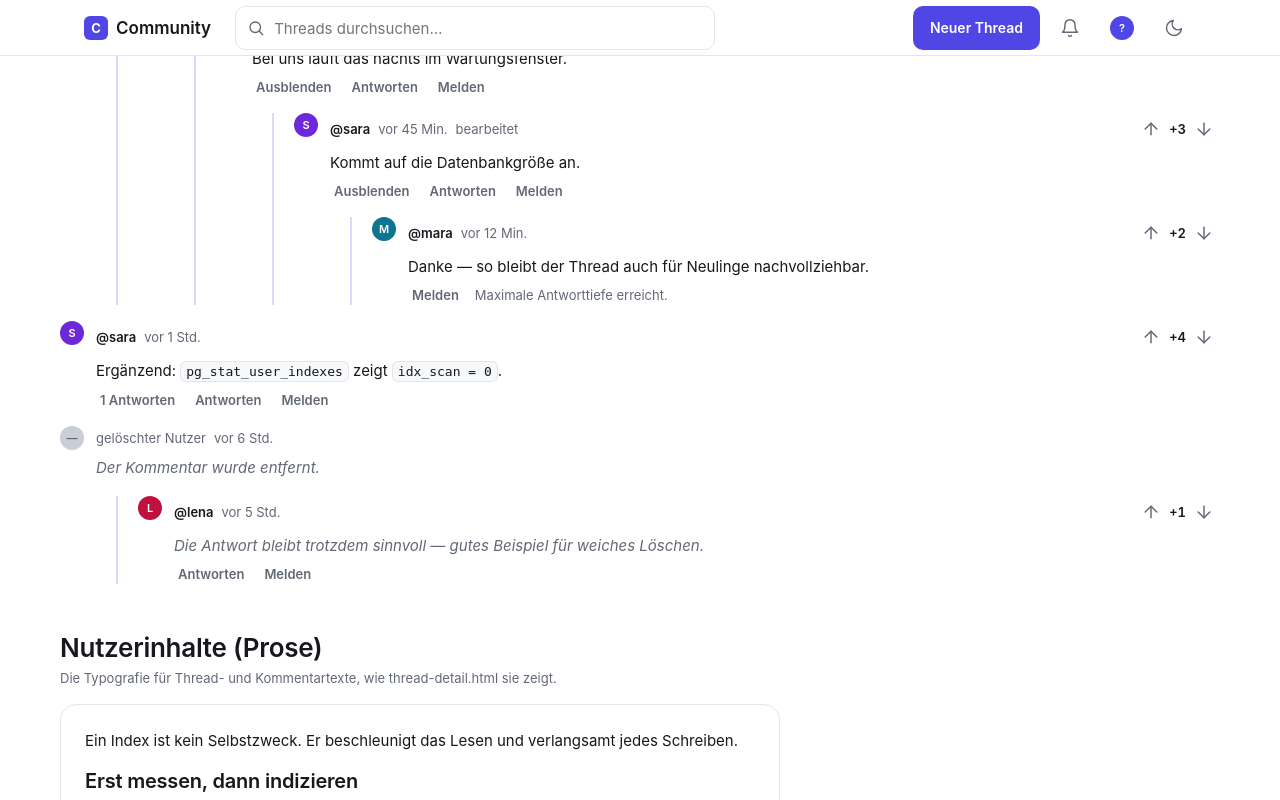
Scenario: forum UI kit gallery › renders the comment tree with depth limit, collapsible replies and a working reply form
(page scrolled)
Expected: the text "Maximale Antworttiefe erreicht." is shown once, [475, 285, 668, 305]
Click the button "1 Antworten". click: (138, 400)
box: [96, 390, 179, 410]
(page scrolled)
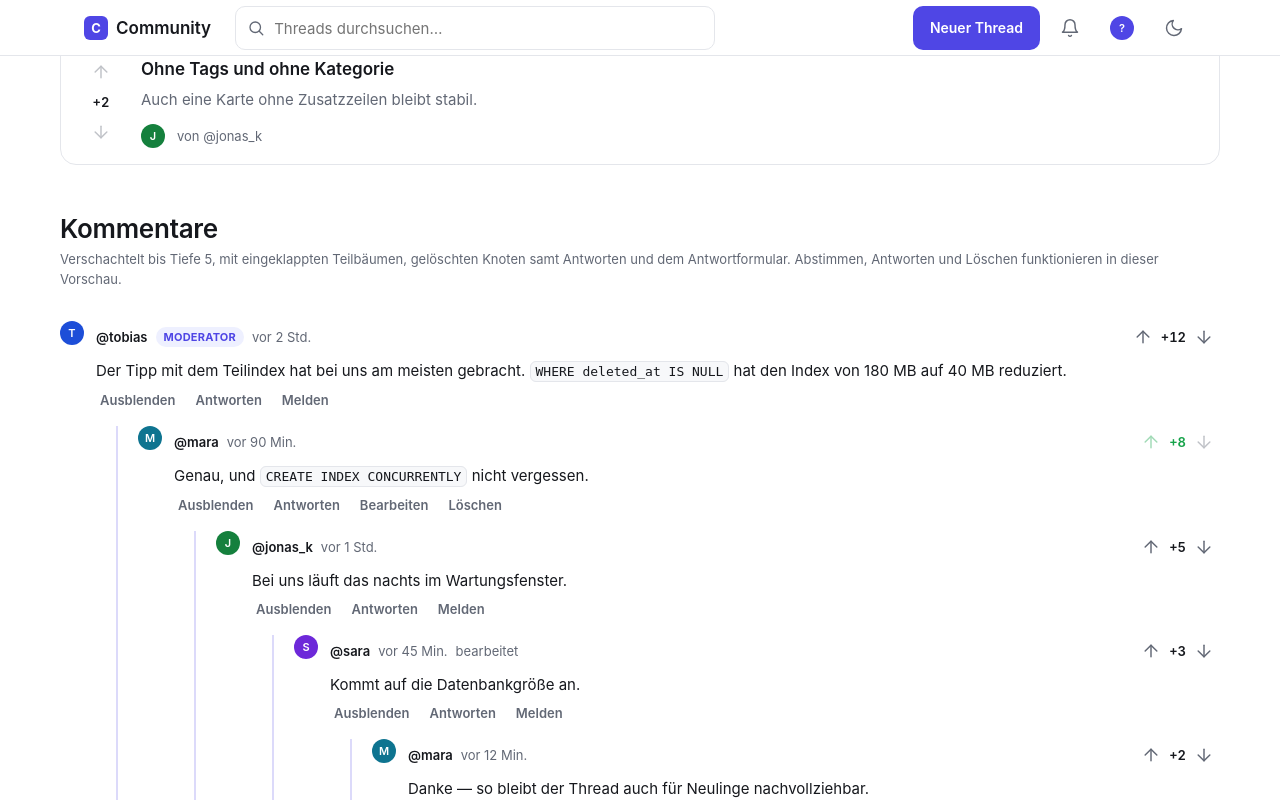
Click the 1st button "Antworten". click: (229, 400)
box: [192, 390, 266, 410]
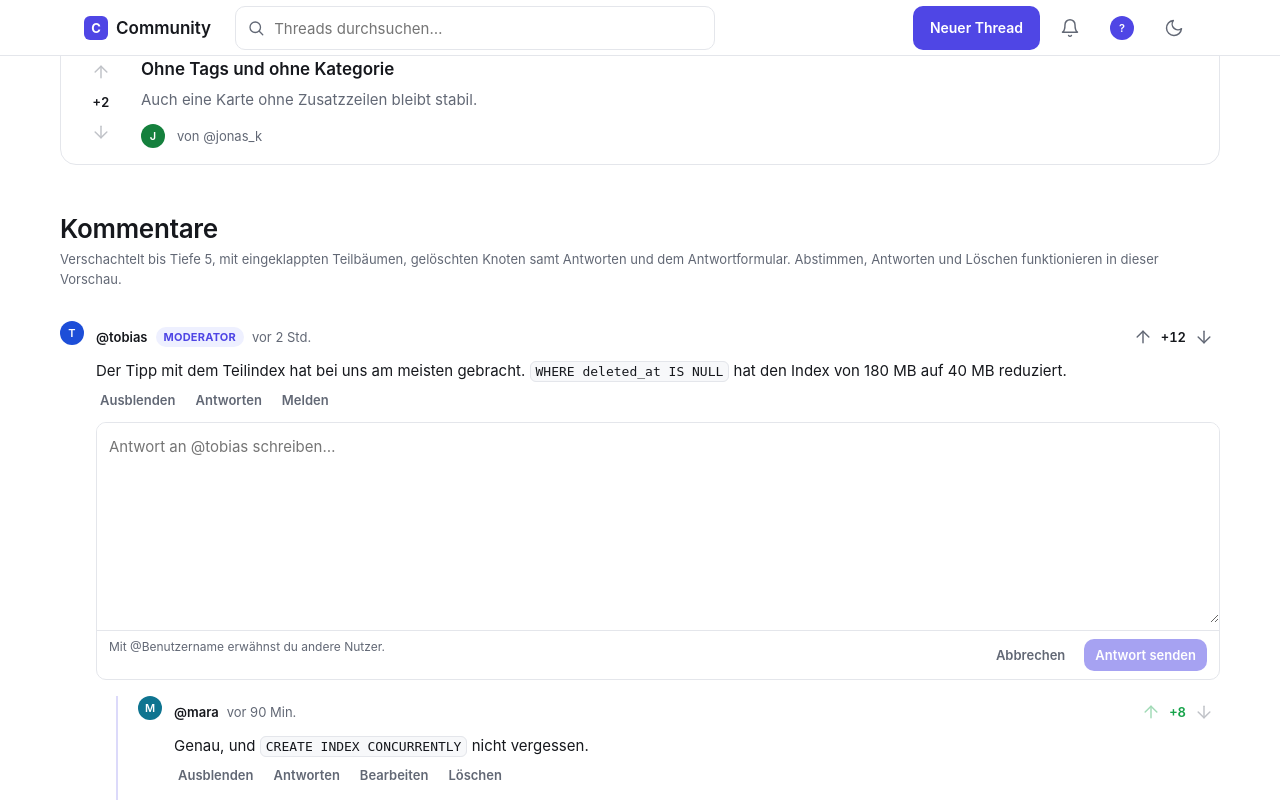
Type "Danke fuer den Hinweis!" into the text box labelled "Antwort". click: (658, 523)
box: [97, 423, 1219, 623]
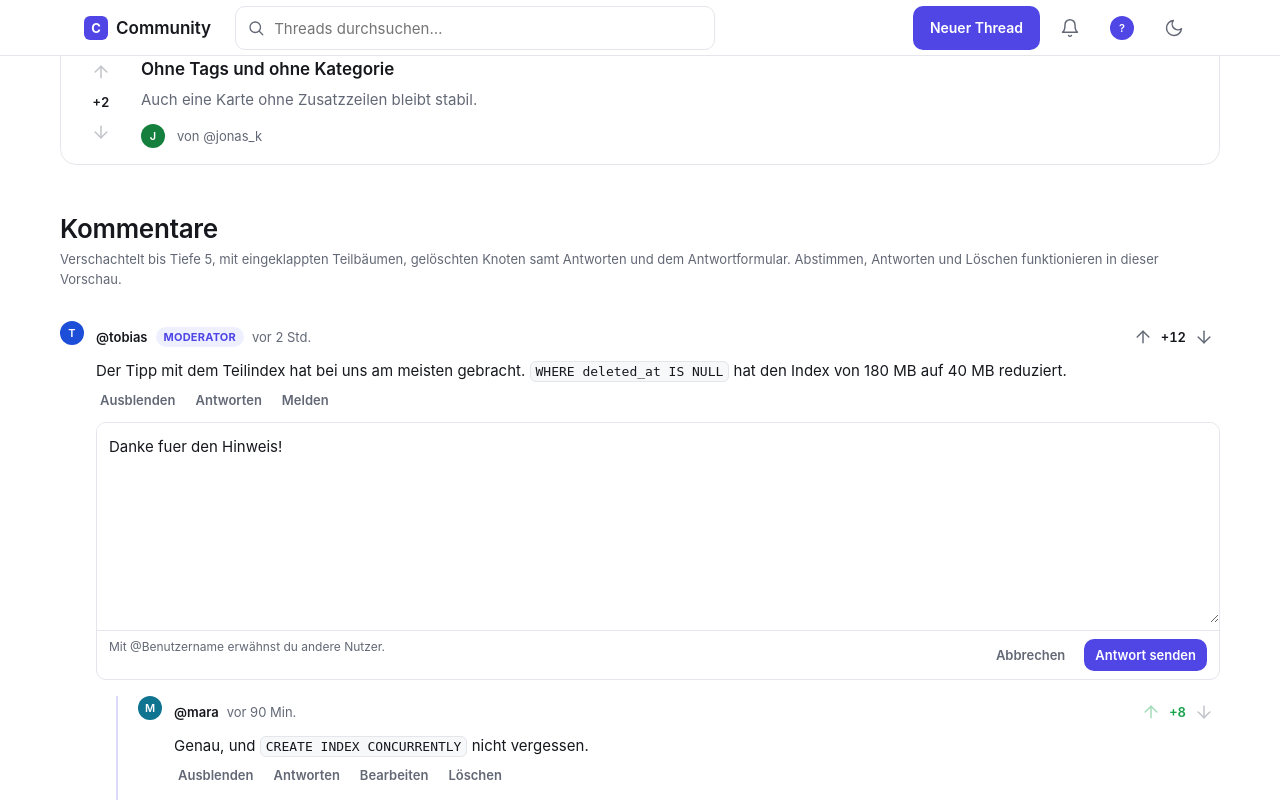
Click the button "Antwort senden". click: (1146, 655)
box: [1084, 639, 1207, 671]
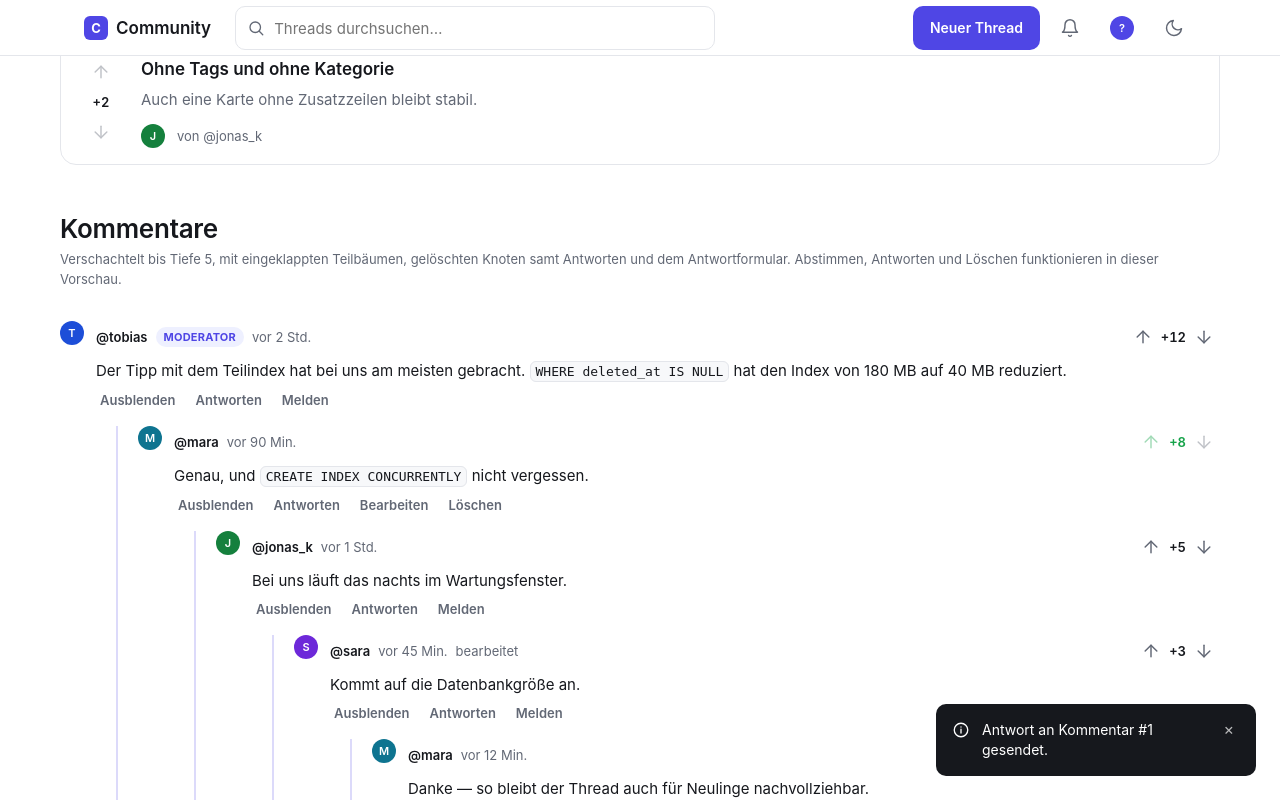
Now the text "Antwort an Kommentar #1 gesendet." is shown, box [982, 721, 1153, 758]
